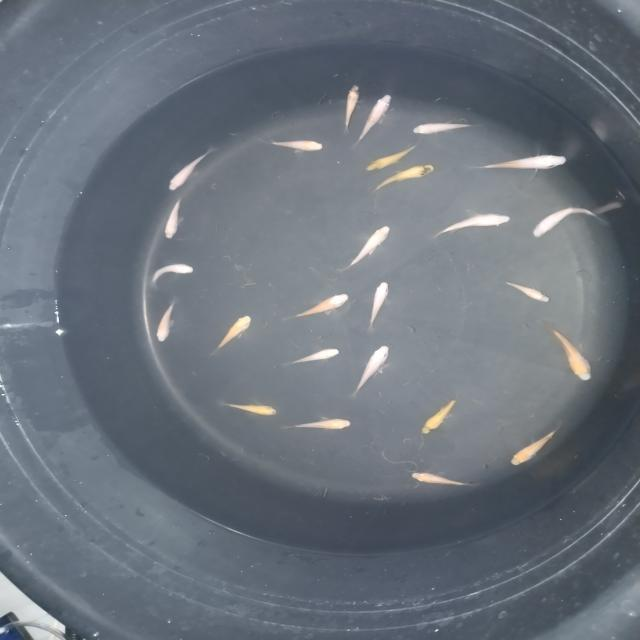nila: (540, 322, 595, 386), (508, 422, 572, 469), (462, 148, 574, 174), (346, 92, 396, 149), (530, 204, 608, 240), (336, 224, 394, 272), (164, 145, 218, 193), (366, 162, 436, 198), (350, 344, 392, 402), (426, 211, 512, 239), (361, 139, 424, 174), (206, 315, 258, 357), (288, 292, 356, 322), (420, 394, 462, 438), (408, 469, 480, 492), (150, 298, 182, 346), (163, 196, 196, 242), (362, 280, 390, 333), (252, 136, 326, 156), (498, 279, 552, 305), (214, 399, 282, 419), (284, 346, 343, 369), (410, 120, 483, 138), (339, 84, 364, 134), (148, 262, 196, 288), (282, 416, 355, 433)
